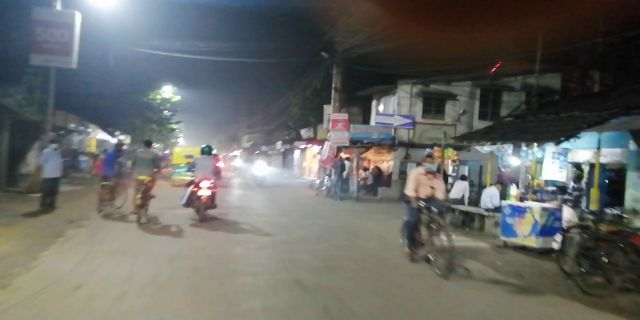Cycle: (399, 151, 466, 275)
Motorbike: (180, 134, 220, 224)
